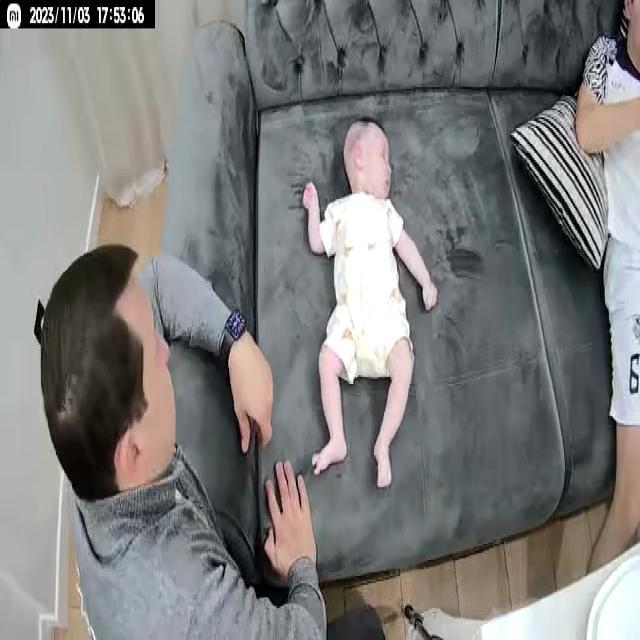baby: (302, 112, 439, 495)
